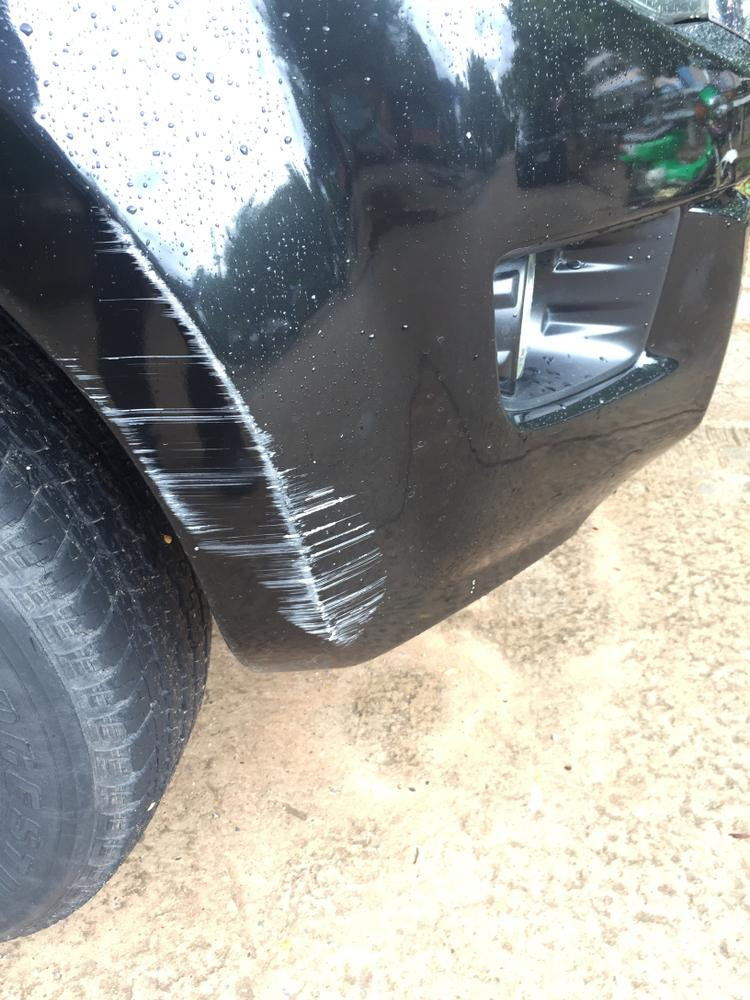scratch: (61, 193, 399, 653)
